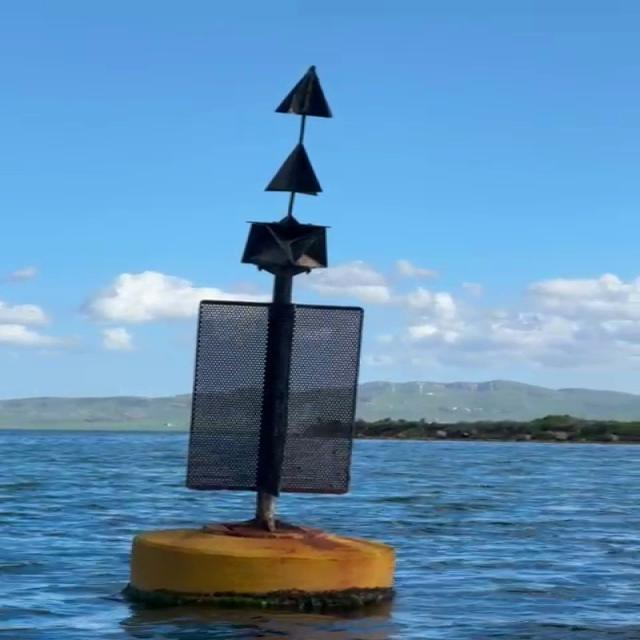marque: (124, 63, 397, 606)
